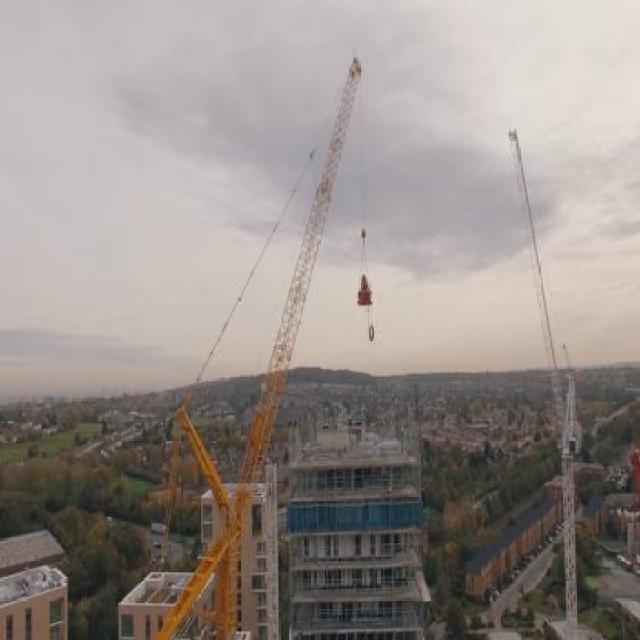Mobile Crane: (153, 57, 364, 638)
